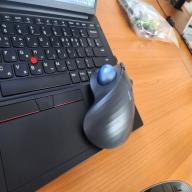mouse: (84, 61, 136, 150)
